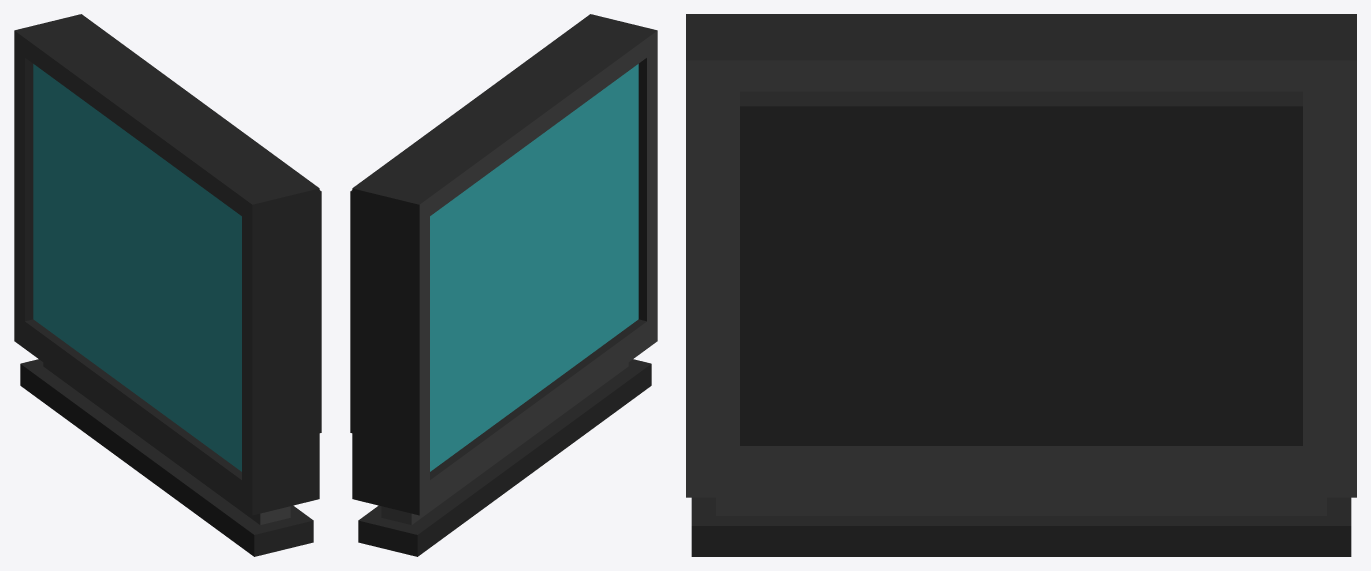
3 renders of one model, left to right at view 1: azimuth 30°, elevation 25°; view 2: azimuth 150°, elevation 25°; view 3: azimuth 270°, elevation 25°, orthographic. The views are drawn at different scales.
Visible parts, largest first — view 1: tv; view 2: tv; view 3: tv.
Part boxes in pixels (box(x1,y1,x2,y2)): tv: box(14, 14, 321, 556); tv: box(350, 14, 657, 556); tv: box(686, 14, 1356, 556).
Bounding box in the file's own units: 0.24 × 0.92 × 1.12.
